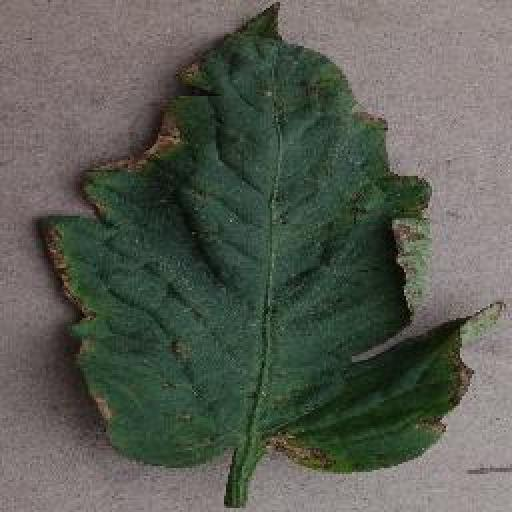Bacterial Spot: (32, 0, 507, 479)
